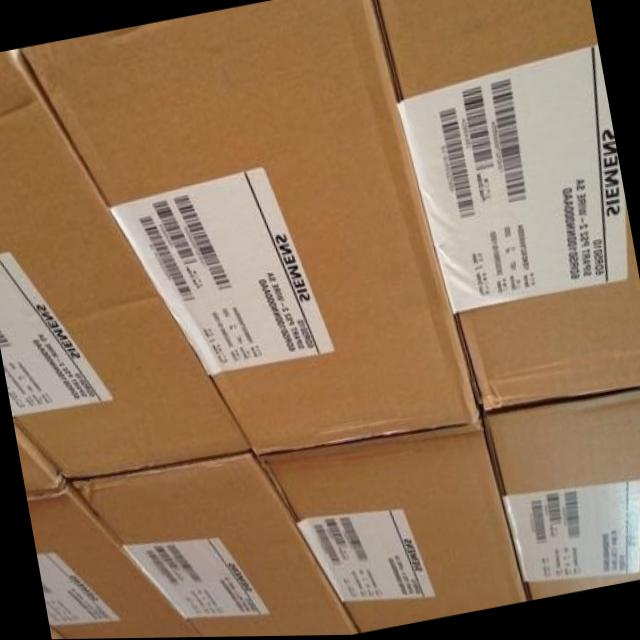box: (23, 0, 481, 458), (374, 0, 640, 417), (0, 50, 254, 484), (257, 425, 528, 631), (73, 456, 358, 638), (483, 390, 640, 600), (27, 484, 203, 639), (16, 430, 68, 495)
